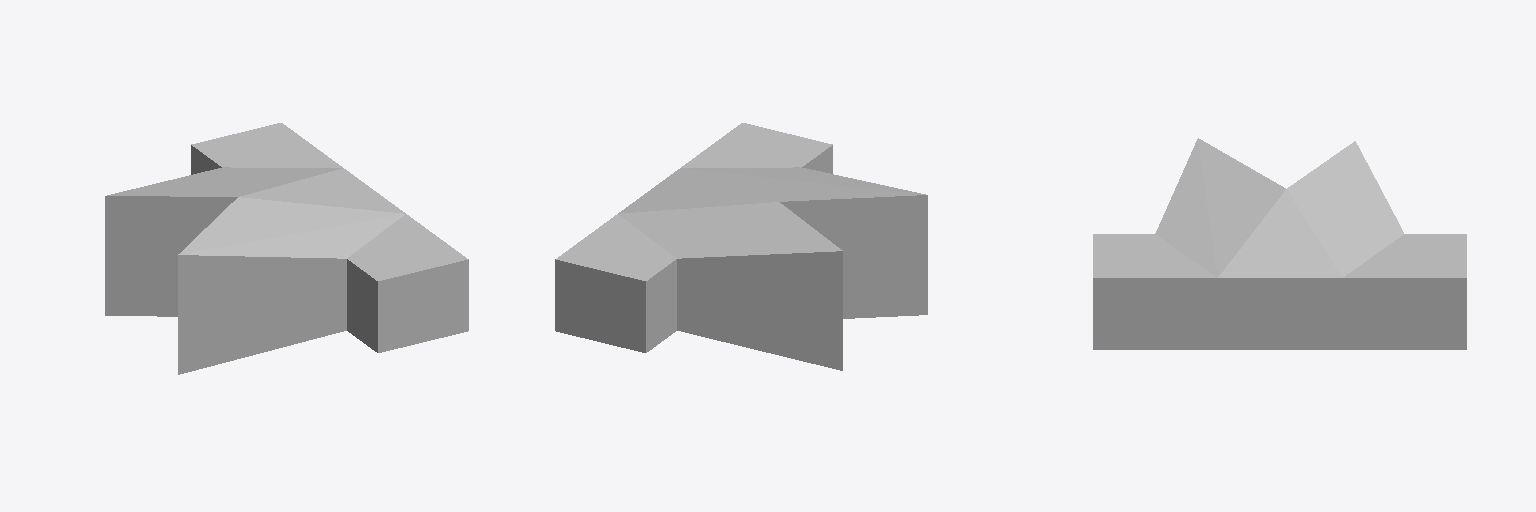
The model's file is PlayerShip.obj.
The picture shows the model from 3 angles: view 1: azimuth 30°, elevation 25°; view 2: azimuth 150°, elevation 25°; view 3: azimuth 270°, elevation 25°; orthographic projection.
Parts seen in each view (by area): view 1: Cube; view 2: Cube; view 3: Cube.
Part boxes in pixels (left/top/right/bottom): Cube: left=105, top=123, right=468, bottom=374; Cube: left=555, top=123, right=927, bottom=370; Cube: left=1093, top=138, right=1466, bottom=349.
Bounding box in the file's own units: 6.93 × 3.34 × 9.42.